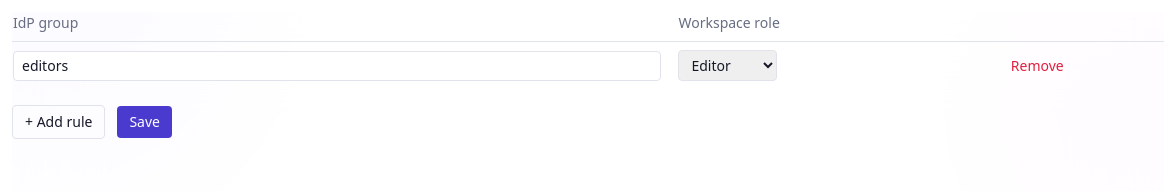
Test: GroupRuleEditor › shows success message after save resolves
The width and height of the screenshot is (1164, 191).
Click the button with test id "group-rule-save" at (145, 122), box [117,106,172,138]
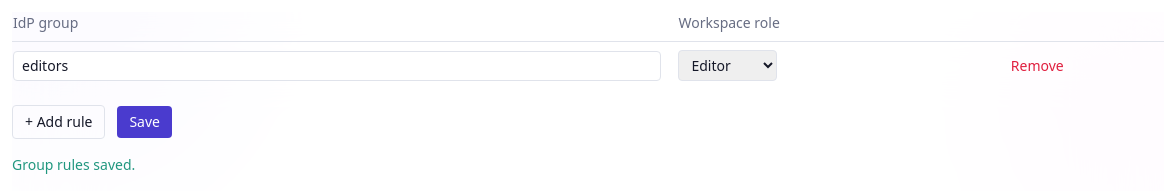
Now the message "Group rules saved." is shown, box [12,155,135,174]
